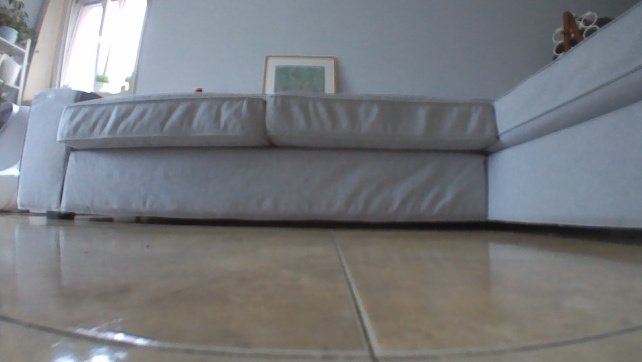sofa: (10, 0, 641, 237)
